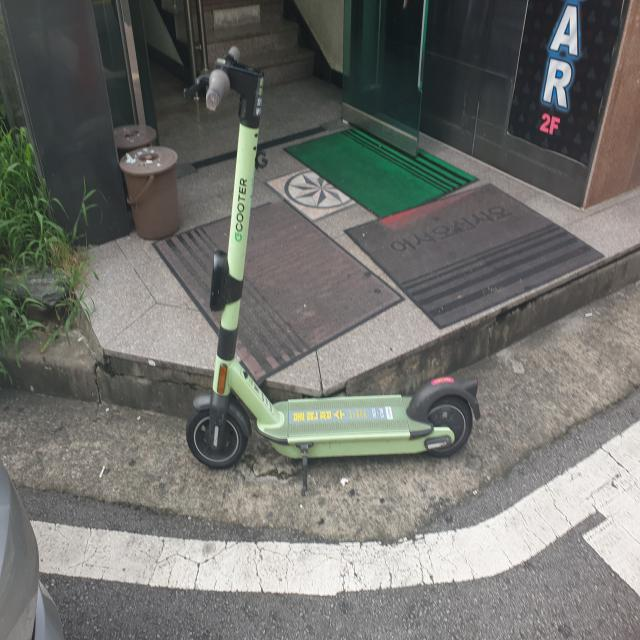bike: (181, 46, 481, 496)
car: (0, 203, 69, 640), (0, 348, 68, 640)
